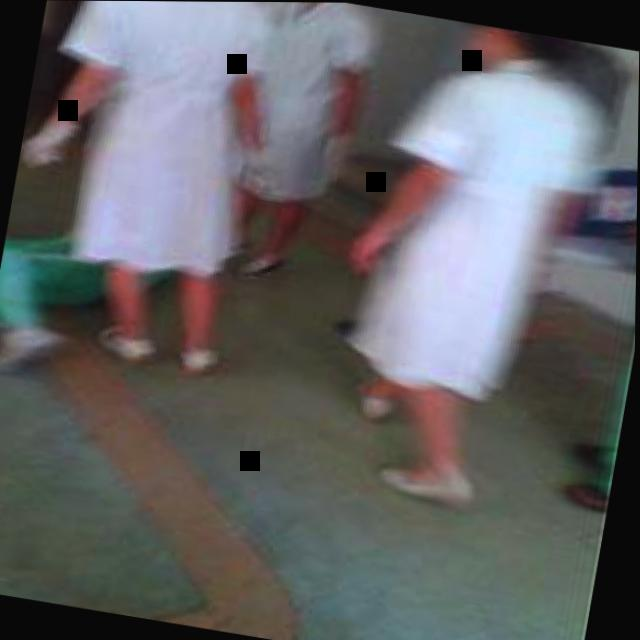Fall-Detected: (0, 179, 215, 394)
